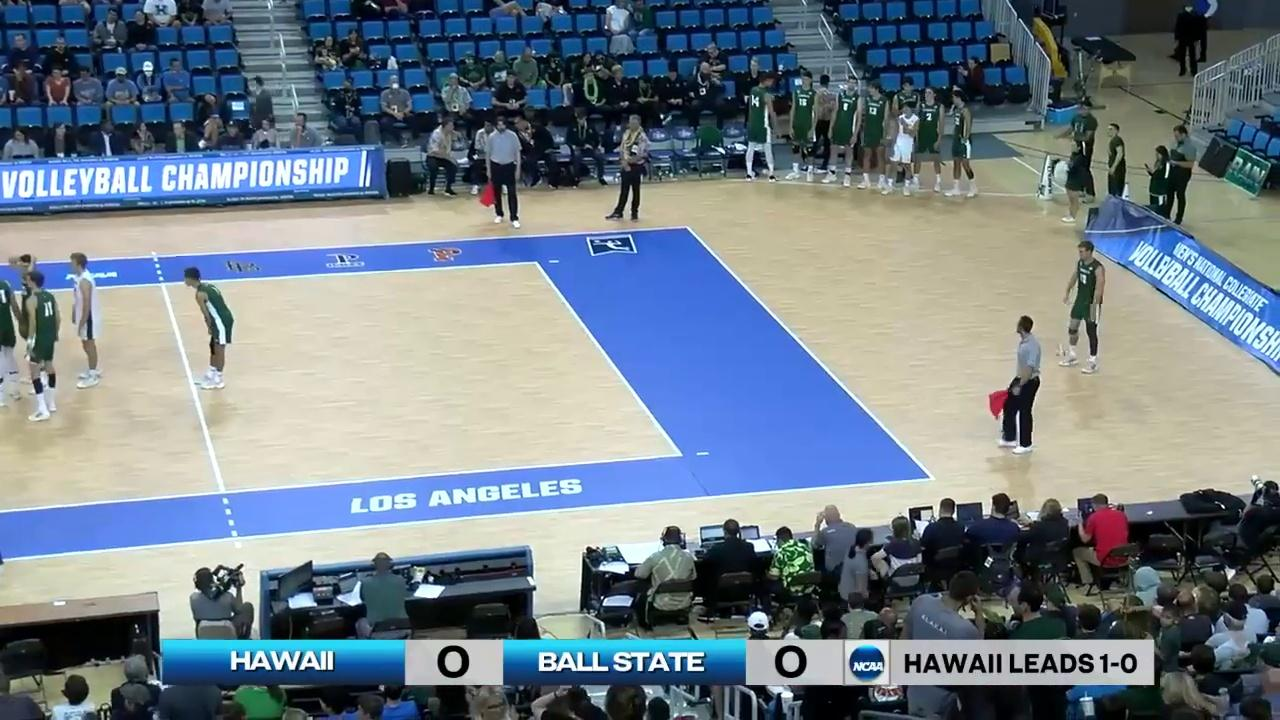player: (1055, 240, 1109, 373), (21, 269, 61, 429), (181, 266, 233, 388), (65, 253, 106, 389), (9, 249, 47, 395), (0, 257, 23, 425)
refree: (996, 316, 1042, 454), (482, 114, 523, 224)
